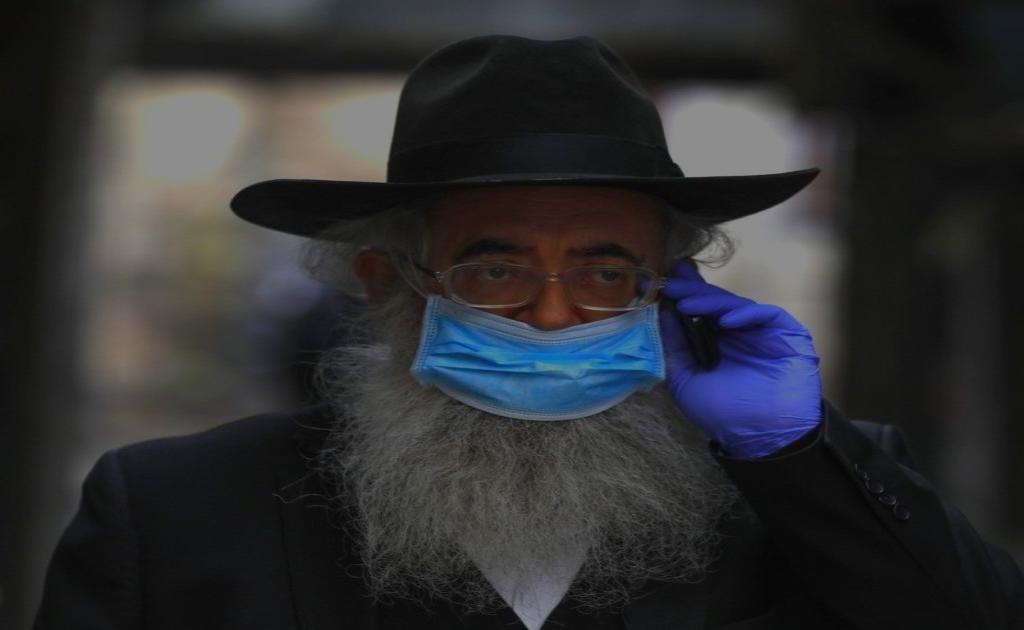mask_weared_incorrect: (358, 192, 687, 427)
